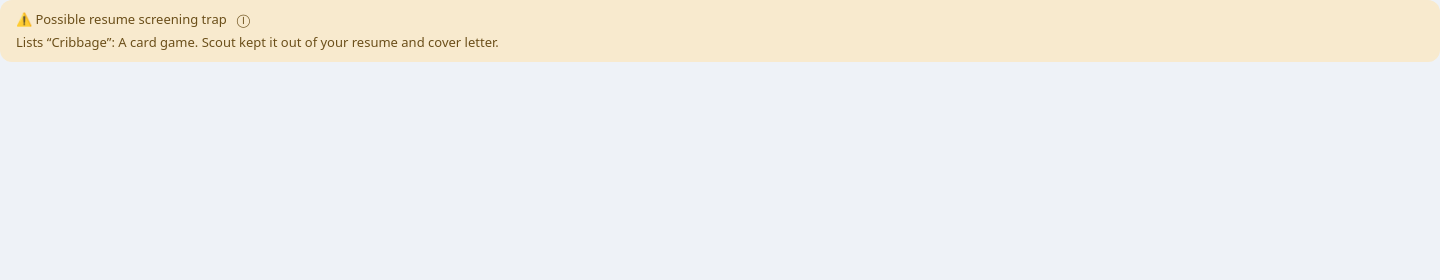
the screening trap warning › explains what a screening trap is, with an example, from the ⓘ
The width and height of the screenshot is (1440, 280).
Hover over the button named "What's a resume screening trap?" at (243, 19), box [233, 10, 254, 29]
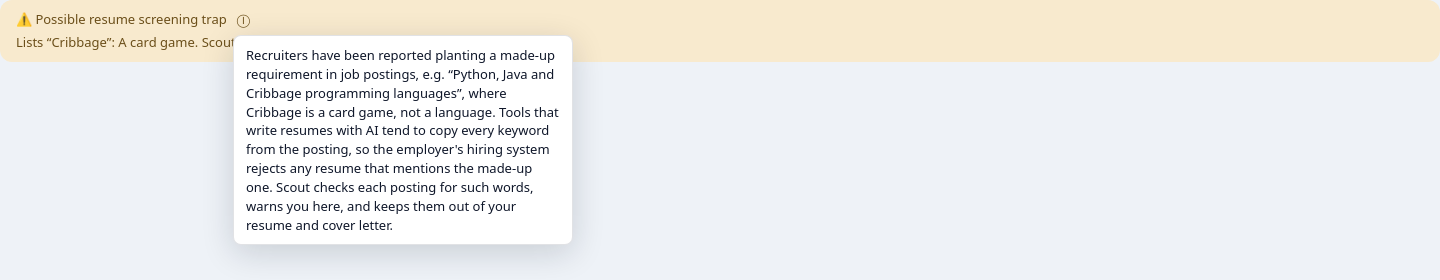
Expected: the tooltip shows "planting a made-up requirement in job postings", [246, 46, 559, 234]
